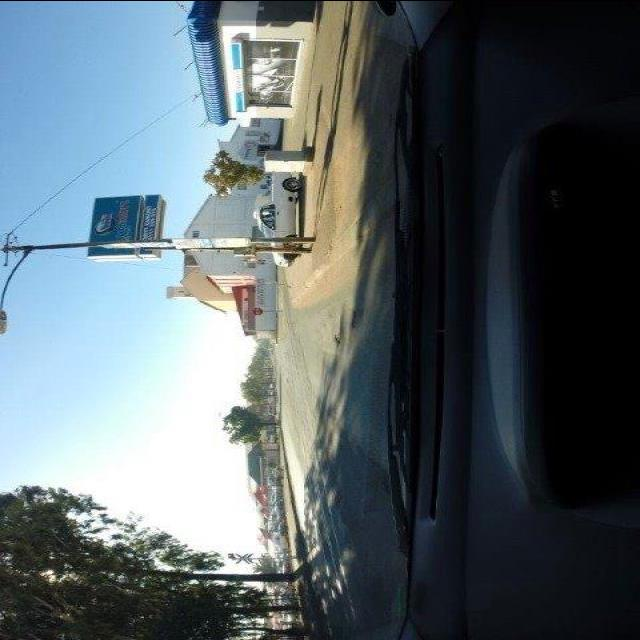lubang: (348, 308, 363, 328), (331, 329, 345, 349)
